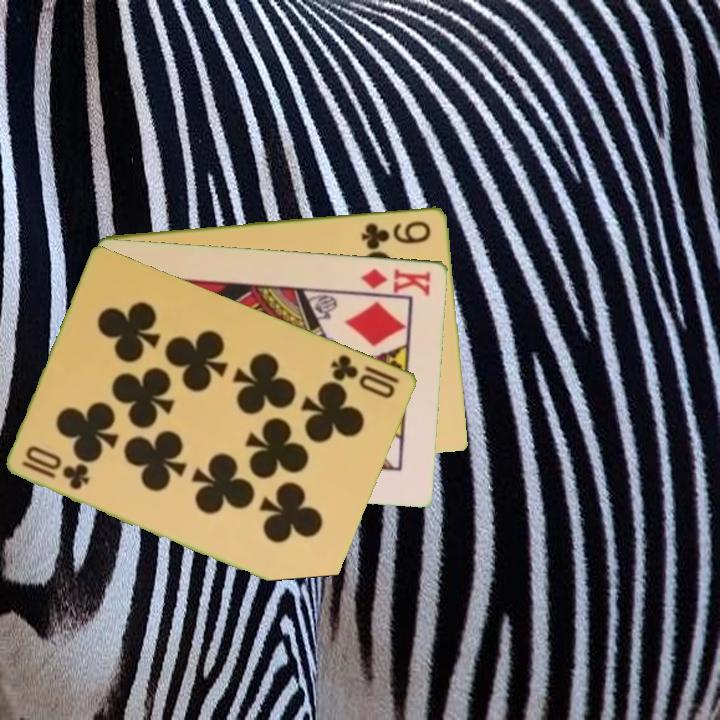10c: (327, 350, 403, 401), (18, 442, 93, 493)
9c: (358, 217, 434, 249)
Kd: (357, 264, 434, 298)
